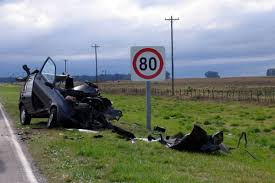Speed_limit_80km: (133, 48, 163, 81)
